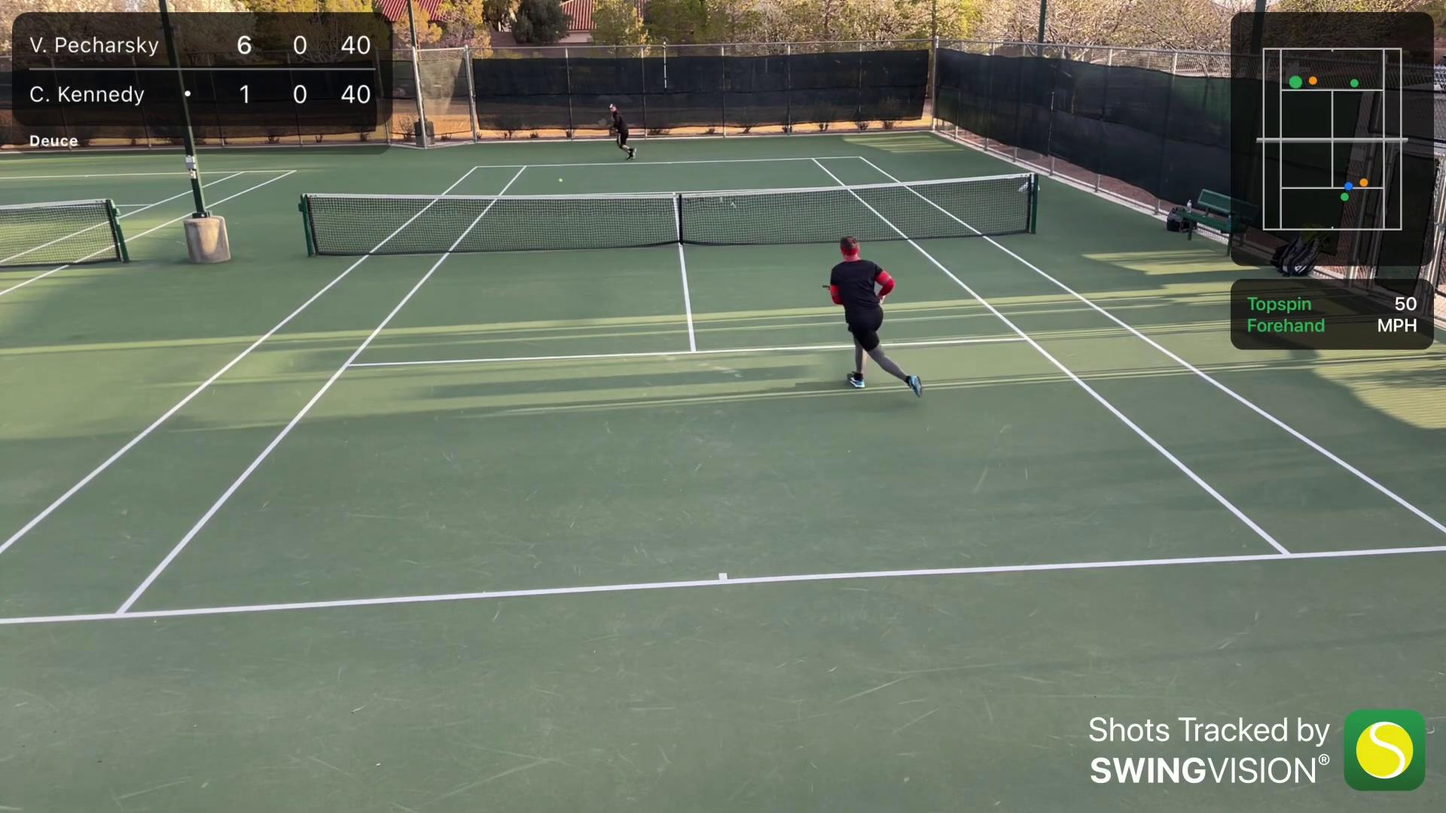ball: (557, 177, 563, 182)
